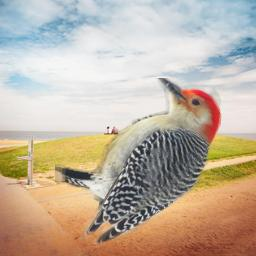Woodpecker: (55, 78, 222, 244)
